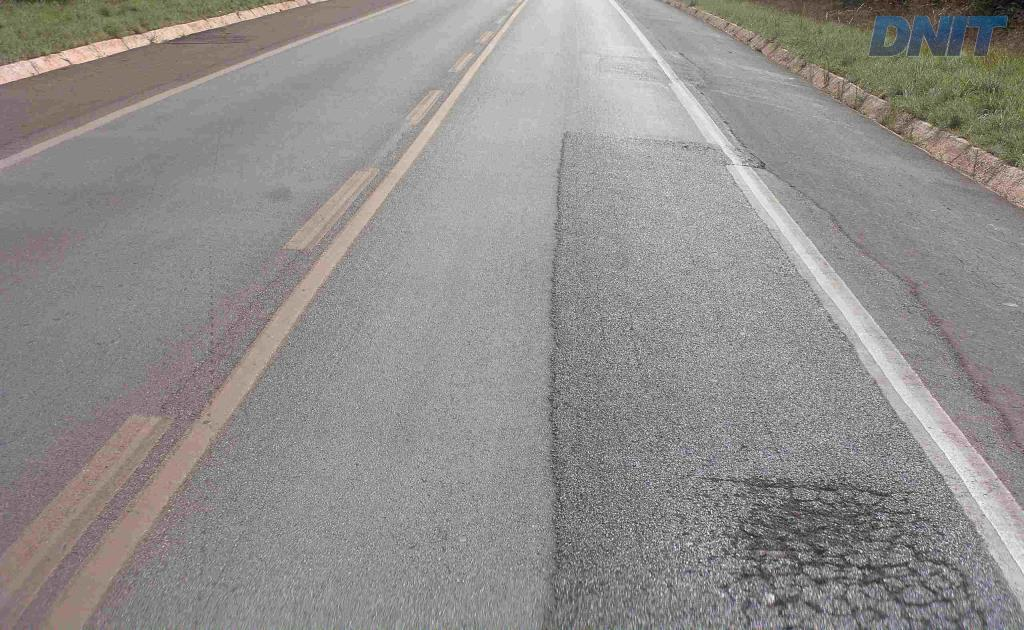crack: (783, 540, 921, 576), (826, 486, 888, 533)
